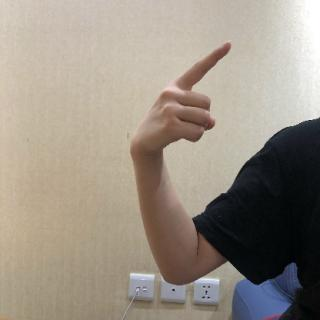RAA: (125, 37, 235, 171)
